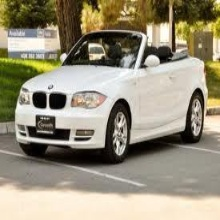no damage: (14, 30, 209, 161)
